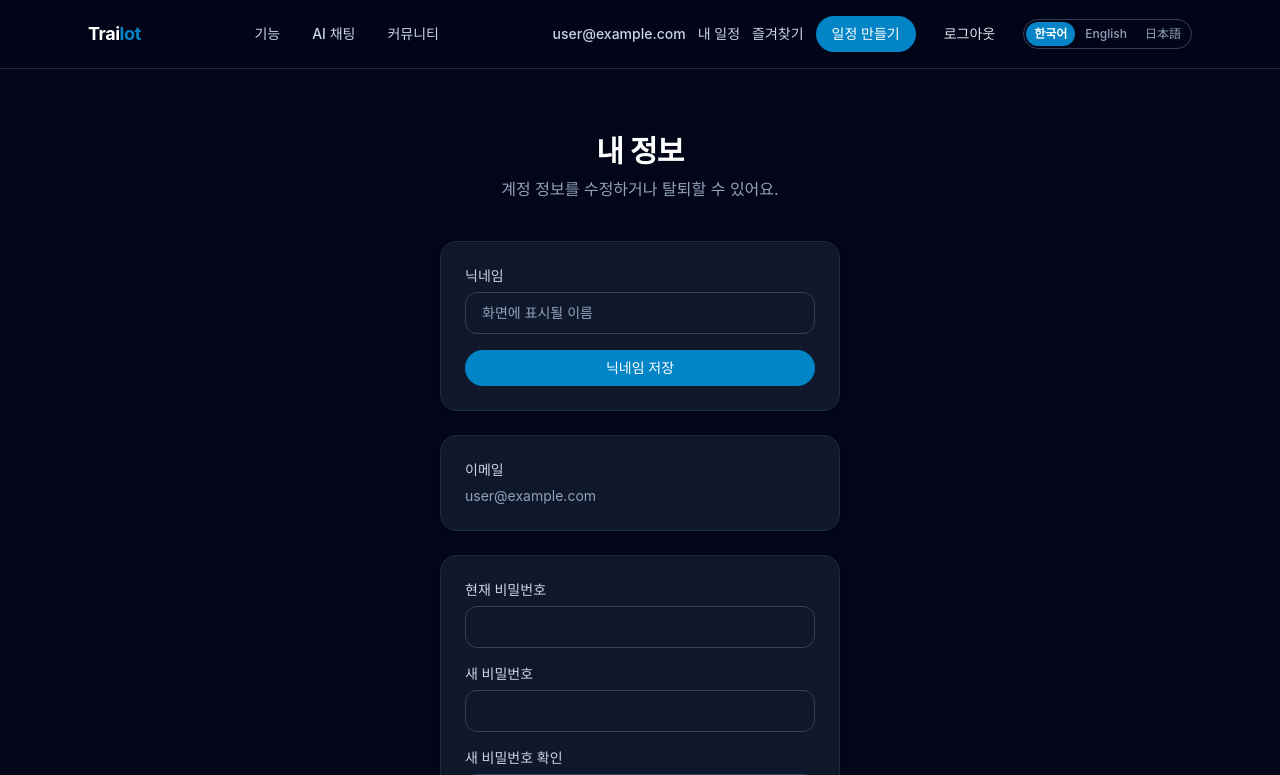
Test case: AccountPage › updates the nickname on save, independently of the email
The image size is (1280, 775).
In the field labelled "닉네임": [640, 313] box [465,292,815,334], type "개굴"
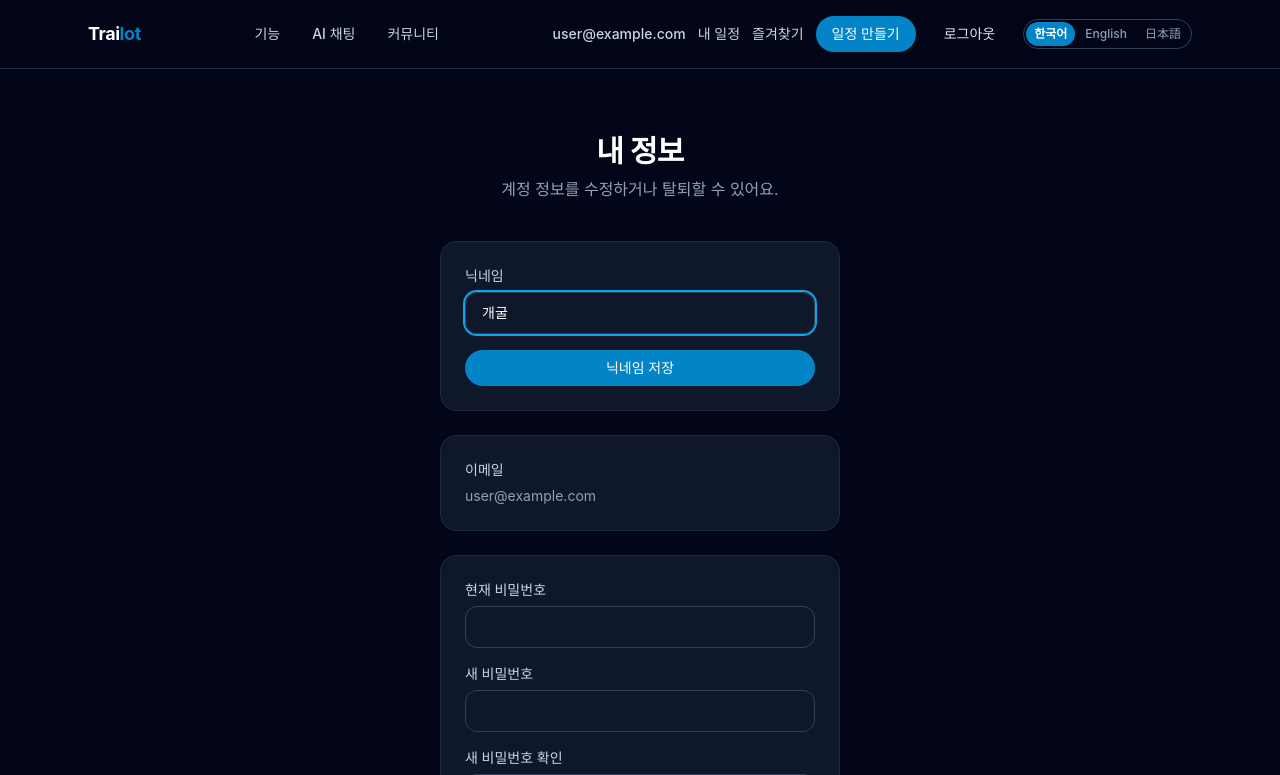
Click the button "닉네임 저장": [640, 368] box [465,350,815,386]
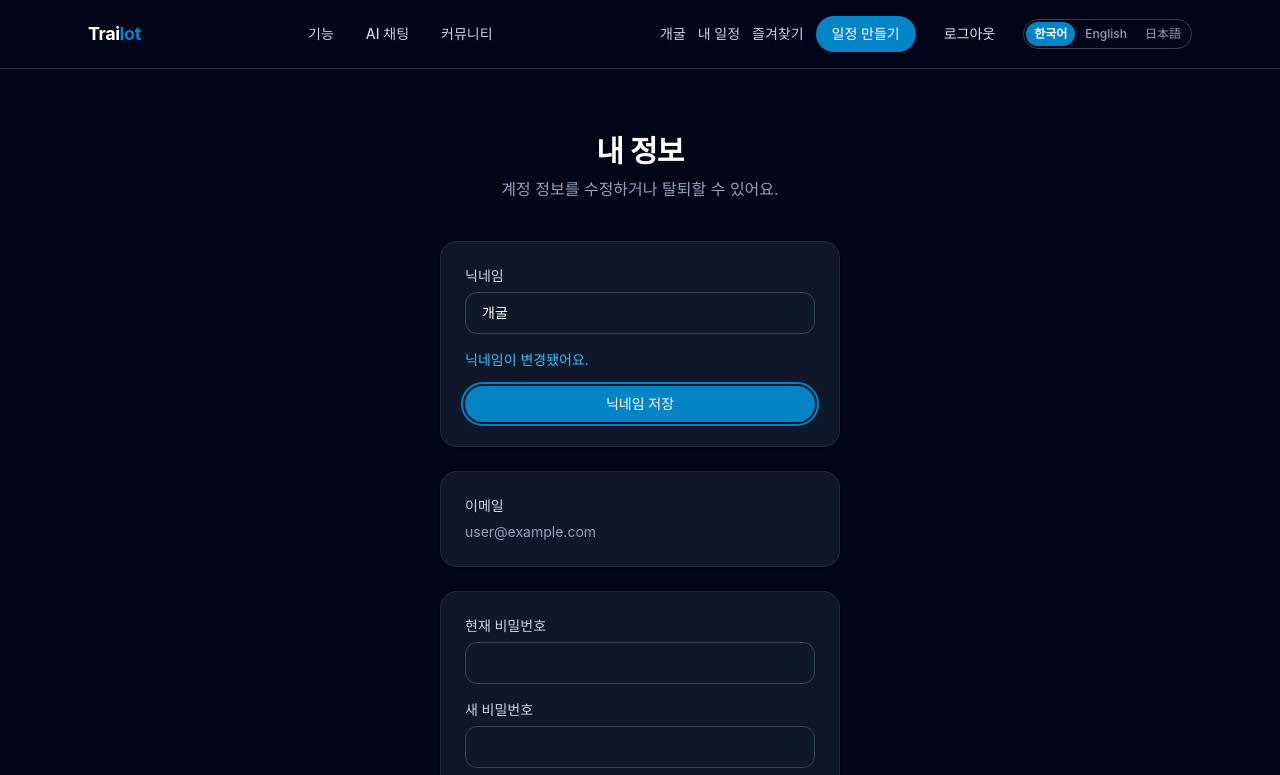
Expected: the text "user@example.com" is shown, [465,523,596,540]
Expected: the text "닉네임이 변경됐어요." is shown, [465,351,589,368]
